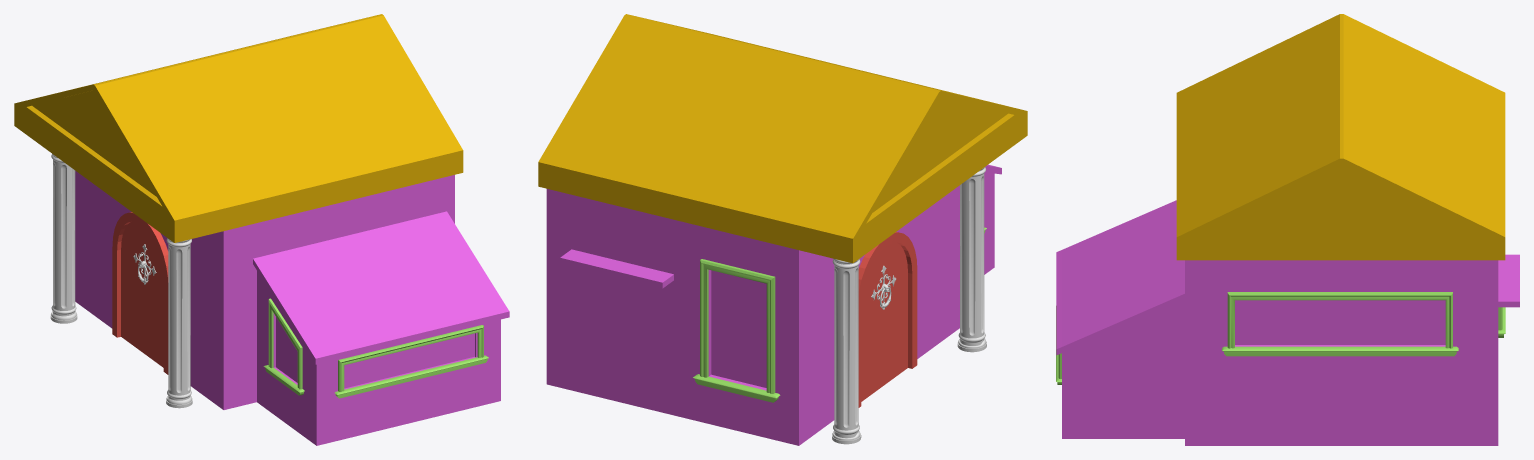
Rendered from casa1.fbx.
The picture shows the model from 3 angles, left to right: view 1: azimuth 30°, elevation 25°; view 2: azimuth 150°, elevation 25°; view 3: azimuth 270°, elevation 25°; orthographic projection. The views are drawn at different scales.
Visible parts, largest first — view 1: casa1, tejado.001, puerta_casa1, ventanas.001, ColumnaCasa1.001, ColumnaCasa1; view 2: tejado.001, casa1, puerta_casa1, ColumnaCasa1, ColumnaCasa1.001, ventanas.001; view 3: casa1, tejado.001, ventanas.001.
Part boxes in pixels (<box>): casa1: <box>75,171,509,445</box>; tejado.001: <box>14,14,463,242</box>; puerta_casa1: <box>112,212,168,374</box>; ventanas.001: <box>263,298,488,398</box>; ColumnaCasa1.001: <box>166,238,192,408</box>; ColumnaCasa1: <box>50,154,77,323</box>; tejado.001: <box>538,14,1027,263</box>; casa1: <box>546,164,1001,445</box>; puerta_casa1: <box>858,232,917,407</box>; ColumnaCasa1: <box>832,258,861,444</box>; ColumnaCasa1.001: <box>957,167,986,352</box>; ventanas.001: <box>693,227,986,402</box>; casa1: <box>1056,200,1519,445</box>; tejado.001: <box>1176,14,1505,260</box>; ventanas.001: <box>1056,292,1505,384</box>.
Size of the model in its own units: 600 by 556 by 808.
